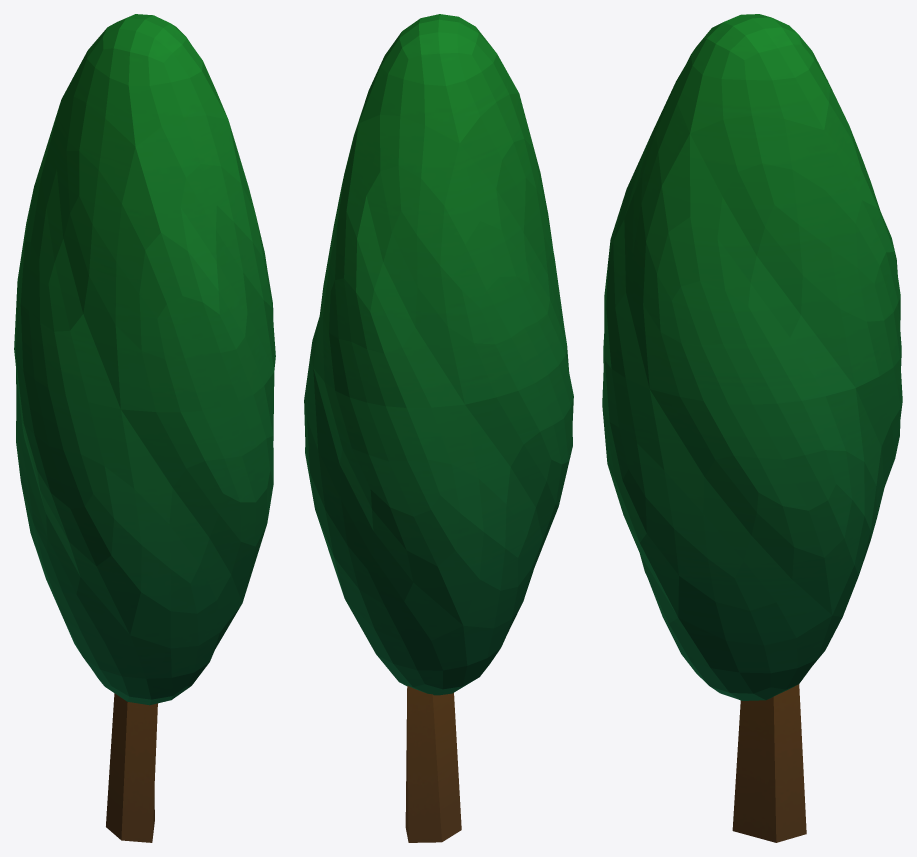
Rendered from tree7.fbx.
3 views of the same model, side by side, from view 1: azimuth 30°, elevation 25°; view 2: azimuth 150°, elevation 25°; view 3: azimuth 270°, elevation 25° (orthographic).
Visible parts, largest first — view 1: GeoSphere048; view 2: GeoSphere048; view 3: GeoSphere048.
Part boxes in pixels (x1,y1,x2,y2): GeoSphere048: (14,14,275,842); GeoSphere048: (304,14,573,842); GeoSphere048: (602,14,902,842).
Size of the model in its own units: 576 by 1981 by 663.
Materials: 1 (1 with a texture image).
